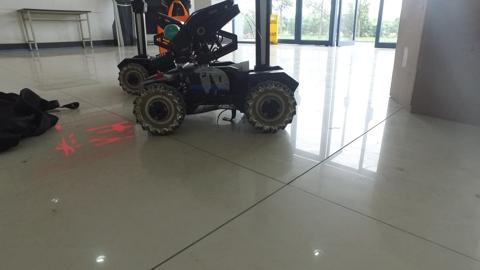chariot: (133, 1, 301, 131)
